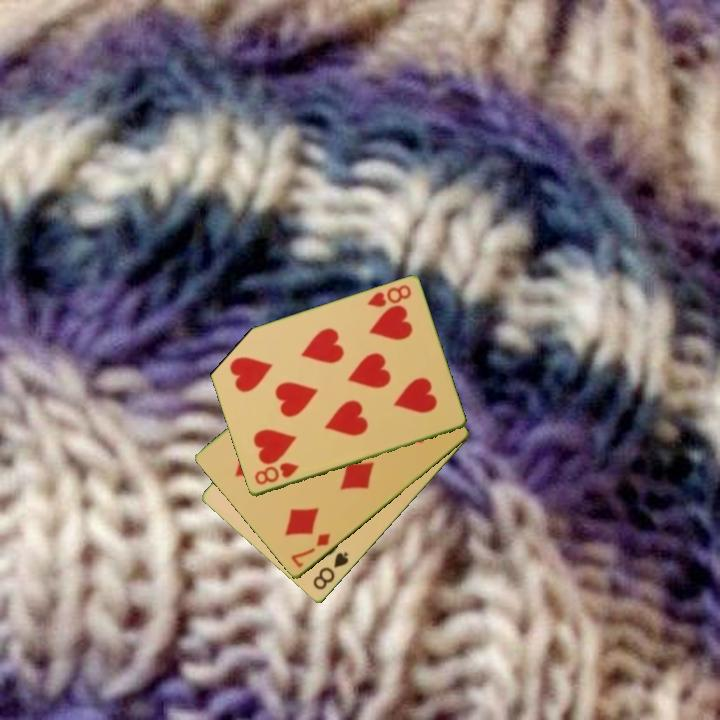7d: (287, 530, 333, 571)
8h: (251, 459, 301, 488), (364, 282, 414, 311)
8s: (309, 549, 352, 593)
